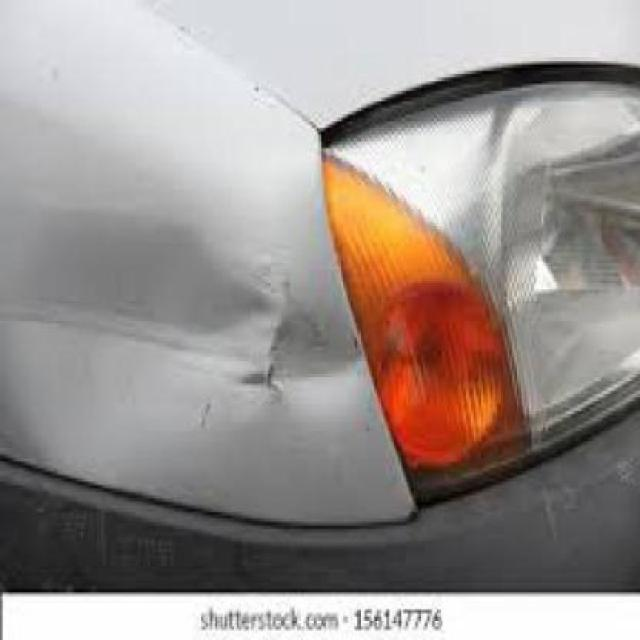fender-dent: (11, 182, 364, 472)
